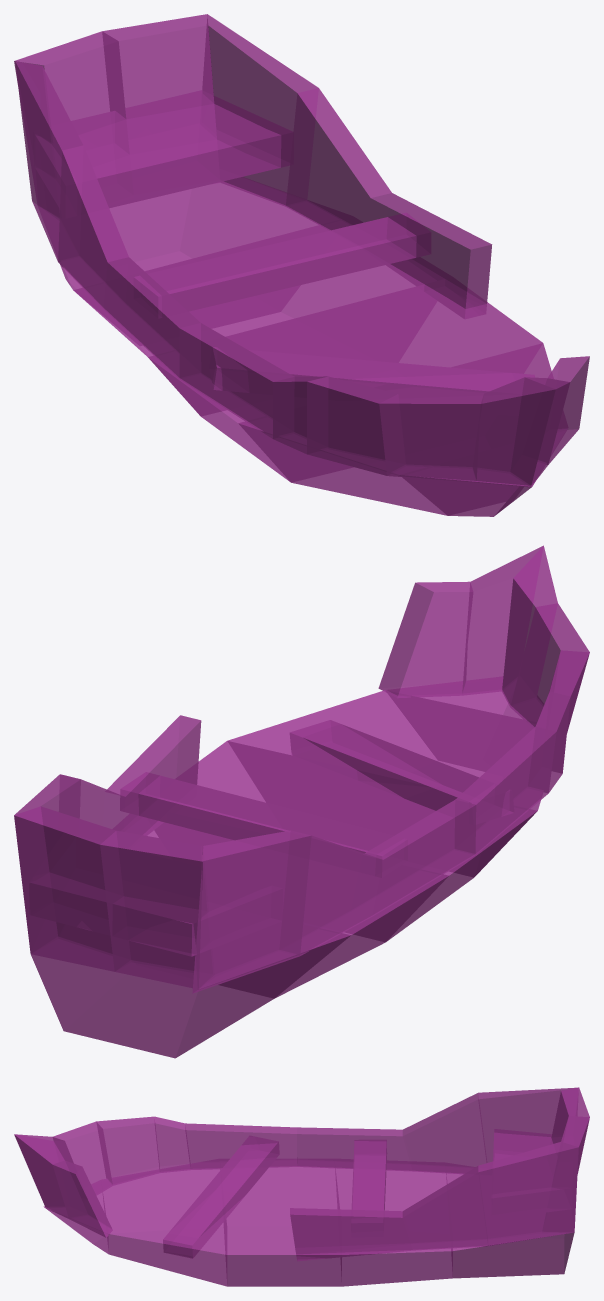
File: SM_Prop_Wreck_Rowboat_01_Collision.fbx
3 renders of one model, top to bottom at view 1: azimuth 30°, elevation 25°; view 2: azimuth 150°, elevation 25°; view 3: azimuth 270°, elevation 25°, orthographic. The views are drawn at different scales.
Parts seen in each view (by area): view 1: SM_Prop_Wreck_Rowboat_01_Collision; view 2: SM_Prop_Wreck_Rowboat_01_Collision; view 3: SM_Prop_Wreck_Rowboat_01_Collision.
Part boxes in pixels (x1,y1,x2,y2): SM_Prop_Wreck_Rowboat_01_Collision: (14, 14, 589, 516); SM_Prop_Wreck_Rowboat_01_Collision: (14, 545, 589, 1058); SM_Prop_Wreck_Rowboat_01_Collision: (14, 1087, 589, 1286).
Bounding box in the file's own units: 193 × 131 × 488.
